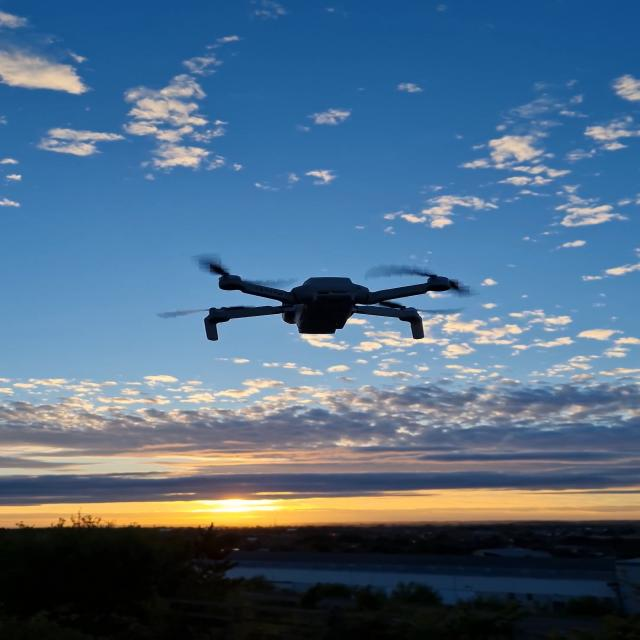Drone: (165, 248, 489, 349)
